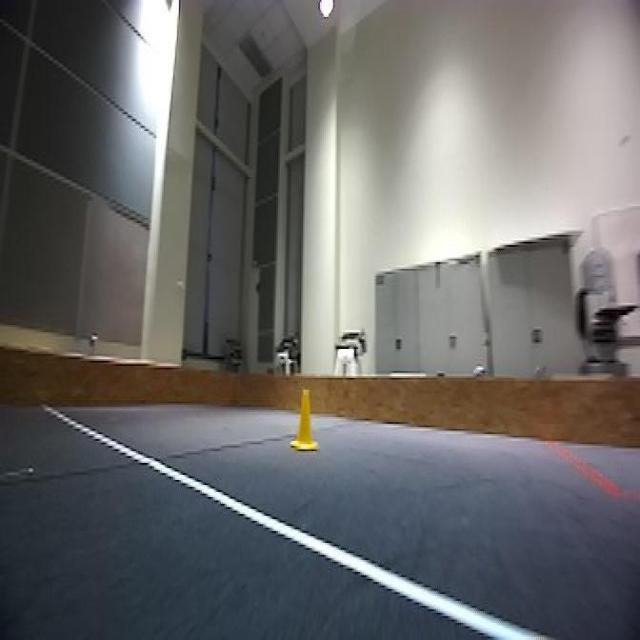frc_cone: (289, 386, 321, 448)
